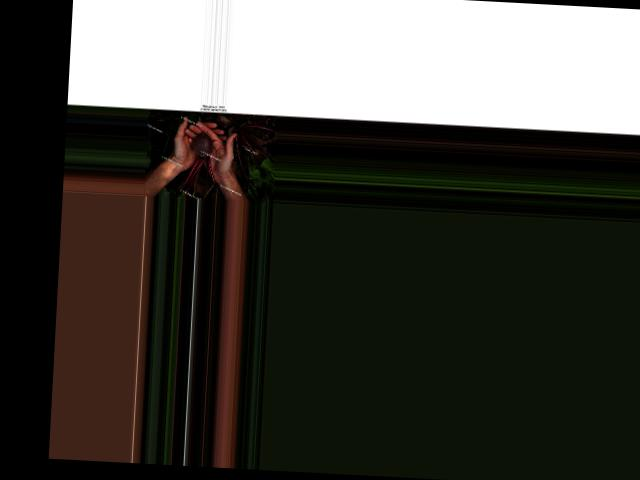beet: (176, 130, 219, 197)
